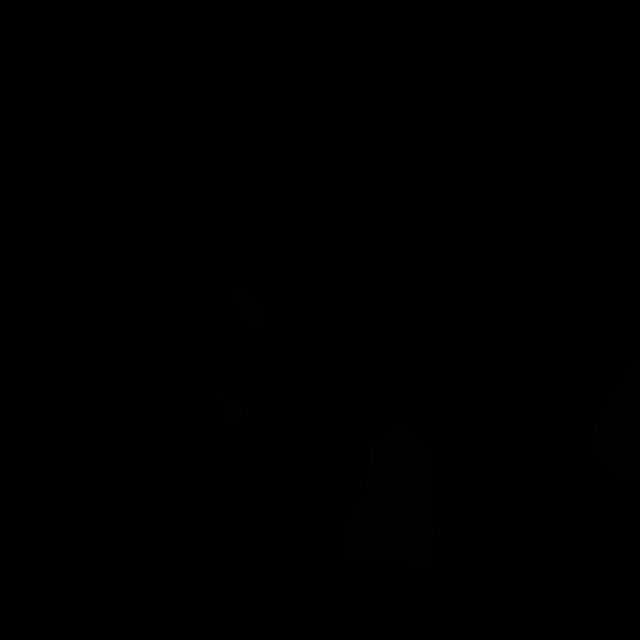cardboard: (338, 423, 438, 572), (586, 348, 640, 484), (220, 282, 266, 332), (211, 384, 243, 430)
